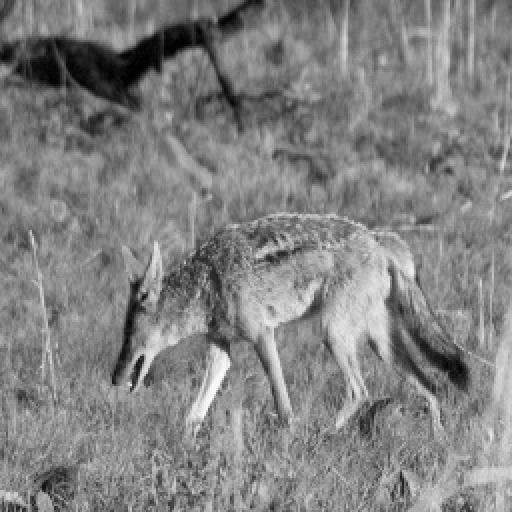zorro: (112, 214, 466, 428)
